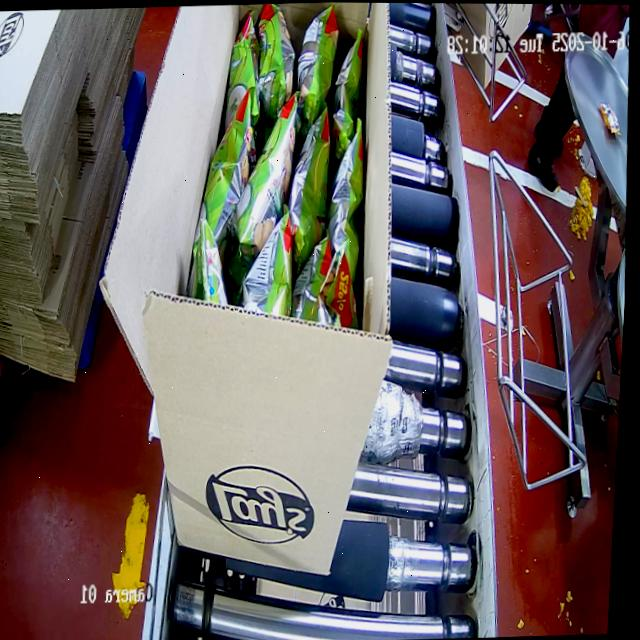YOGURT_HERB: (186, 2, 382, 328)
